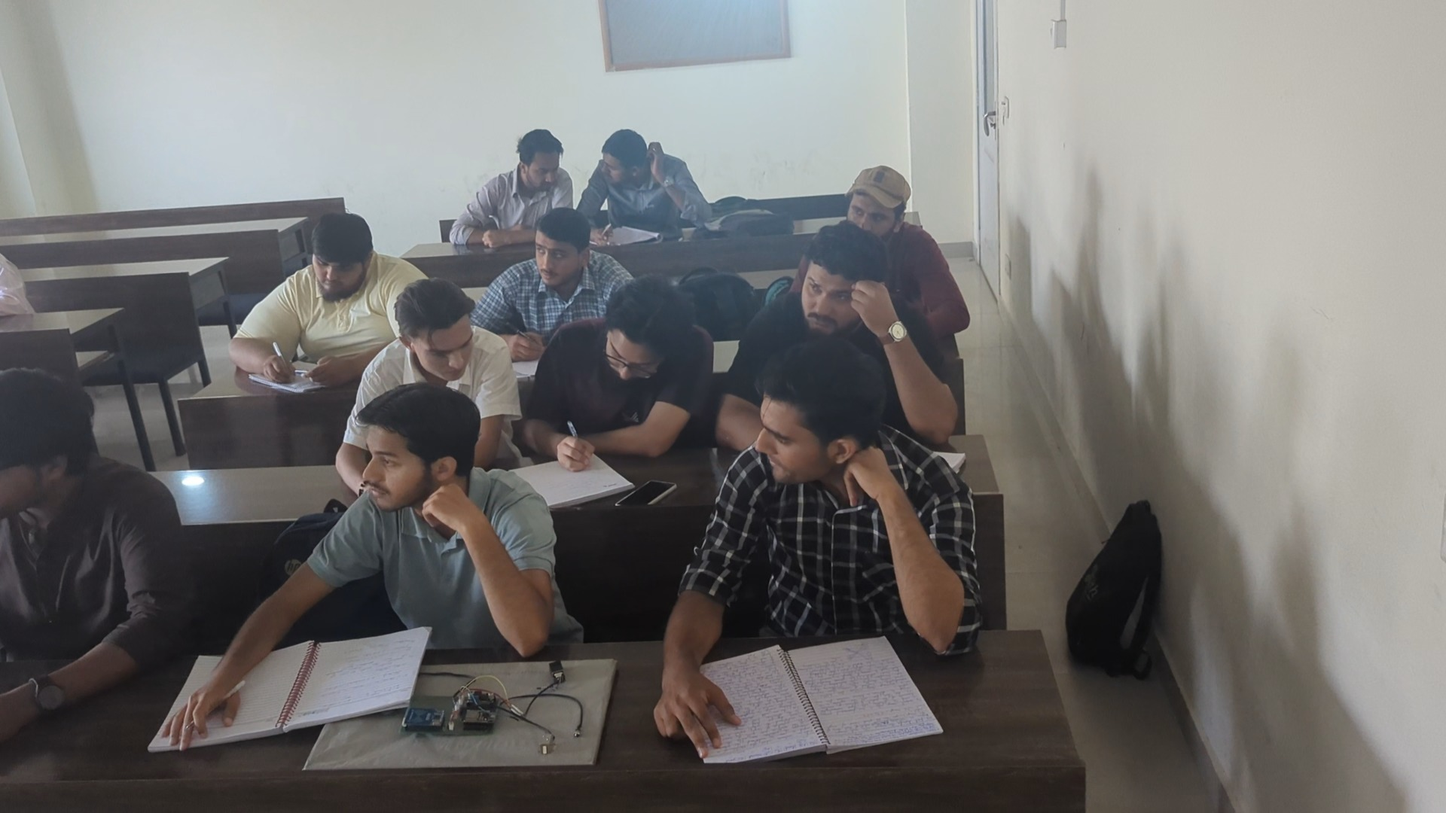look_forward: (2, 361, 185, 675), (349, 393, 549, 659), (775, 233, 922, 352), (522, 216, 612, 304), (830, 151, 923, 236)
turn_head: (732, 360, 964, 633), (583, 123, 723, 235), (385, 269, 511, 391), (467, 112, 582, 219)
write: (531, 268, 710, 500), (261, 192, 374, 393)
